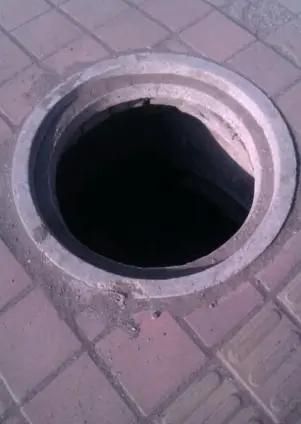wellcover: (6, 55, 301, 298)
